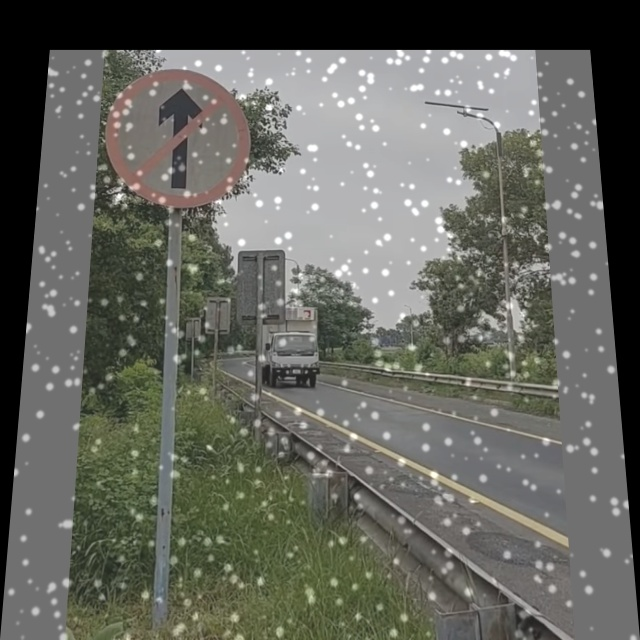No_Entry: (103, 70, 253, 204)
